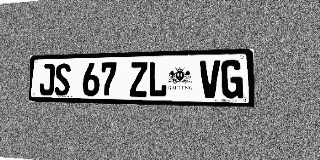6: (82, 63, 100, 96)
7: (99, 62, 117, 97)
G: (221, 60, 243, 99)
J: (39, 64, 55, 96)
L: (148, 61, 167, 97)
S: (54, 63, 71, 96)
V: (200, 60, 220, 98)
Z: (129, 62, 148, 97)
